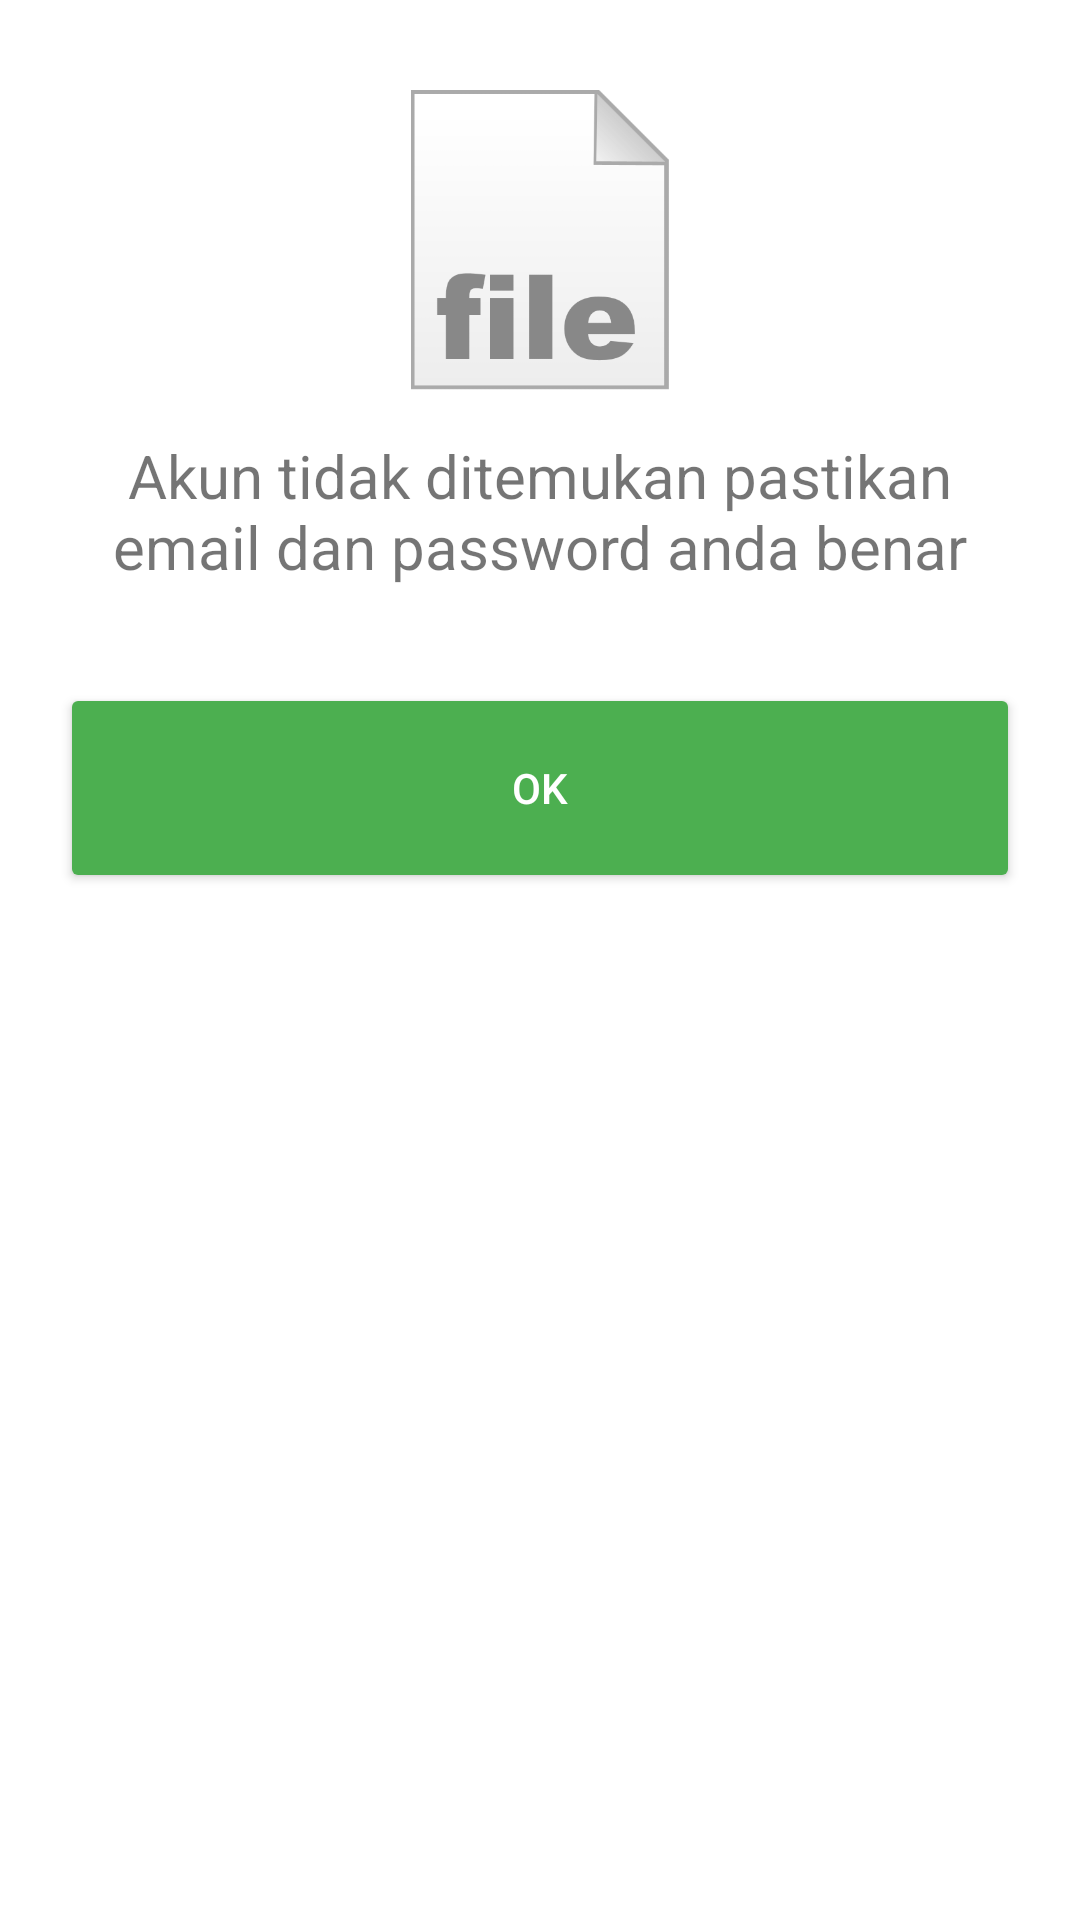

Where to tap for icons on this 1080px x 1920px app screen, as [x,y]:
file kosong: [540,239]
